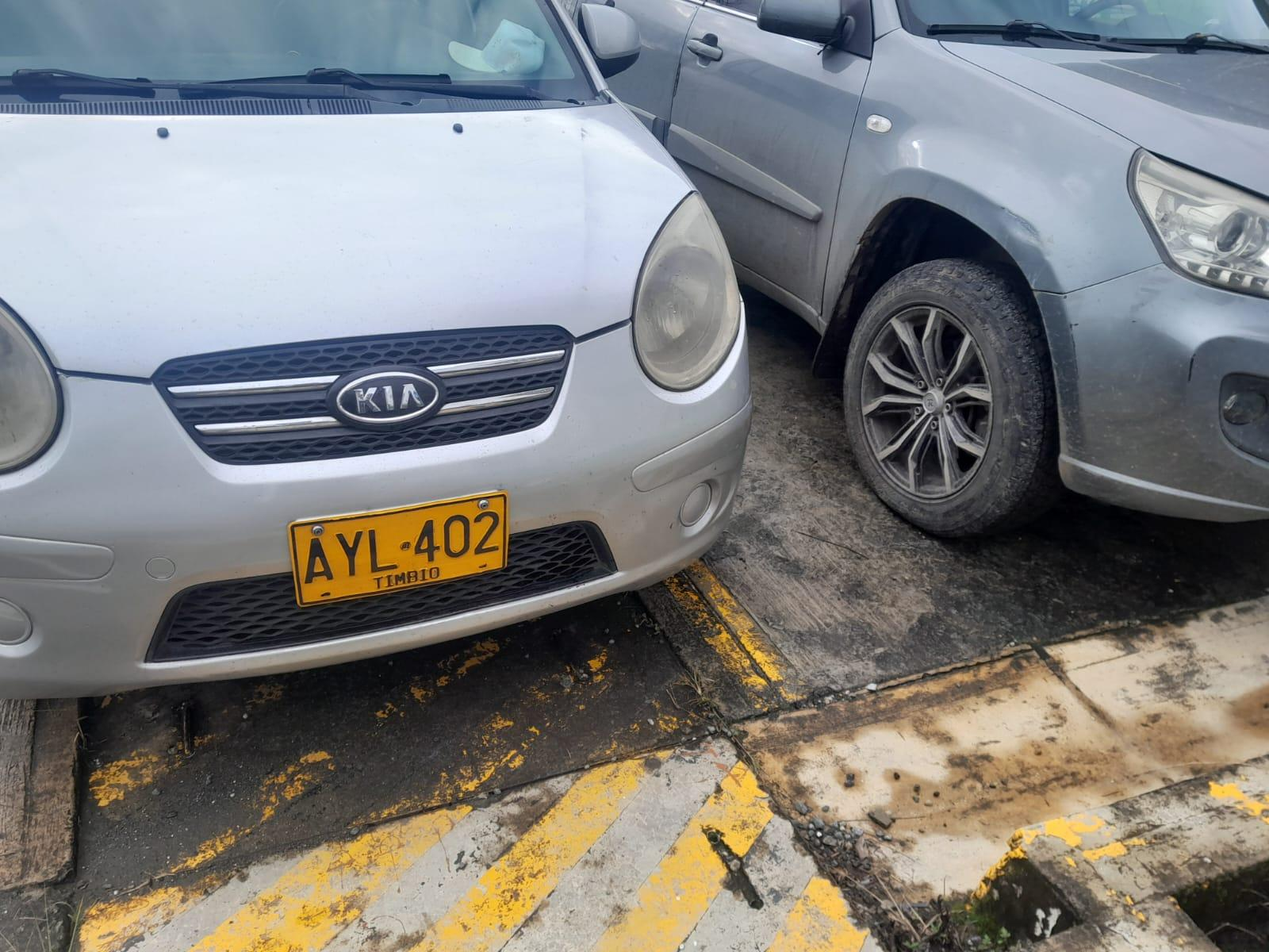placa: (288, 493, 508, 605)
